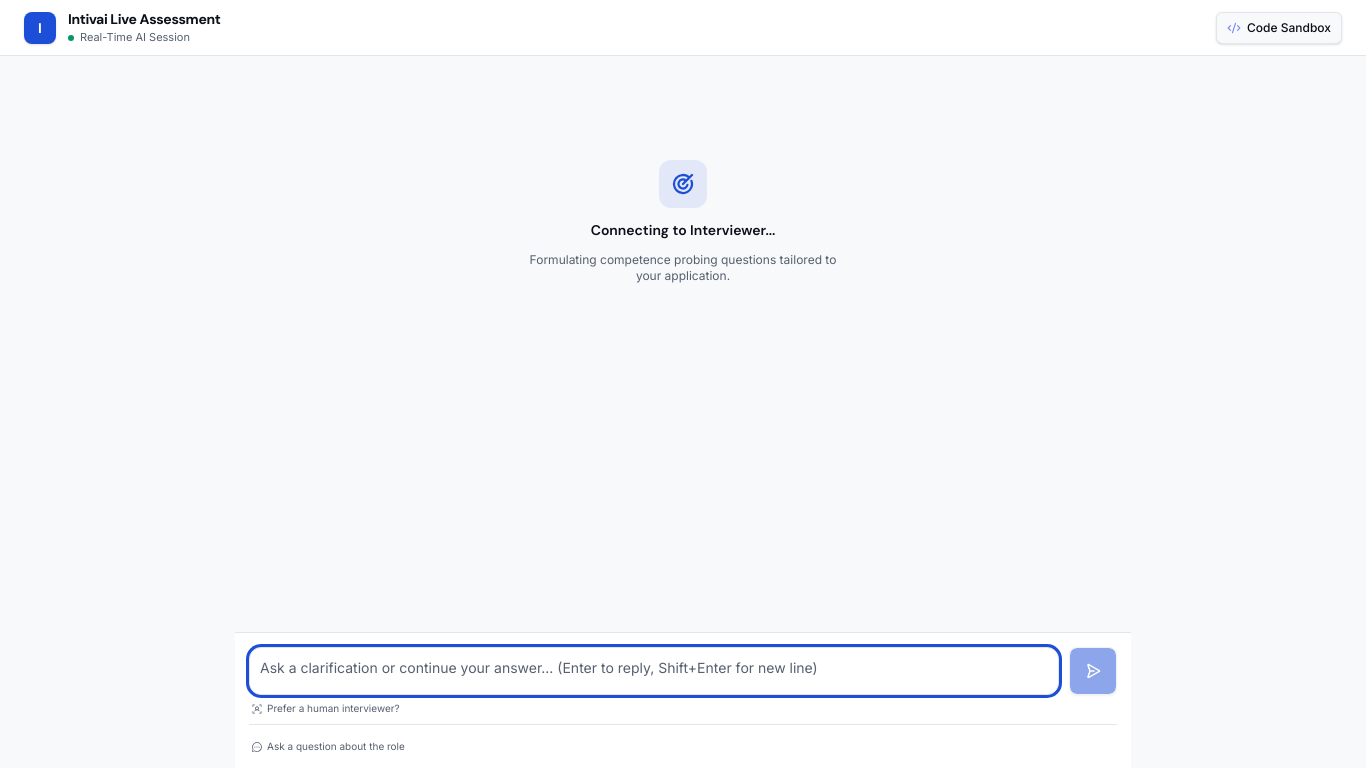
it: ChatPage — G11 input clamps › caps the candidate question input at 1000 characters
The width and height of the screenshot is (1366, 768).
Click the button "Ask a question about the role" at (328, 746), box [249,739,407,754]
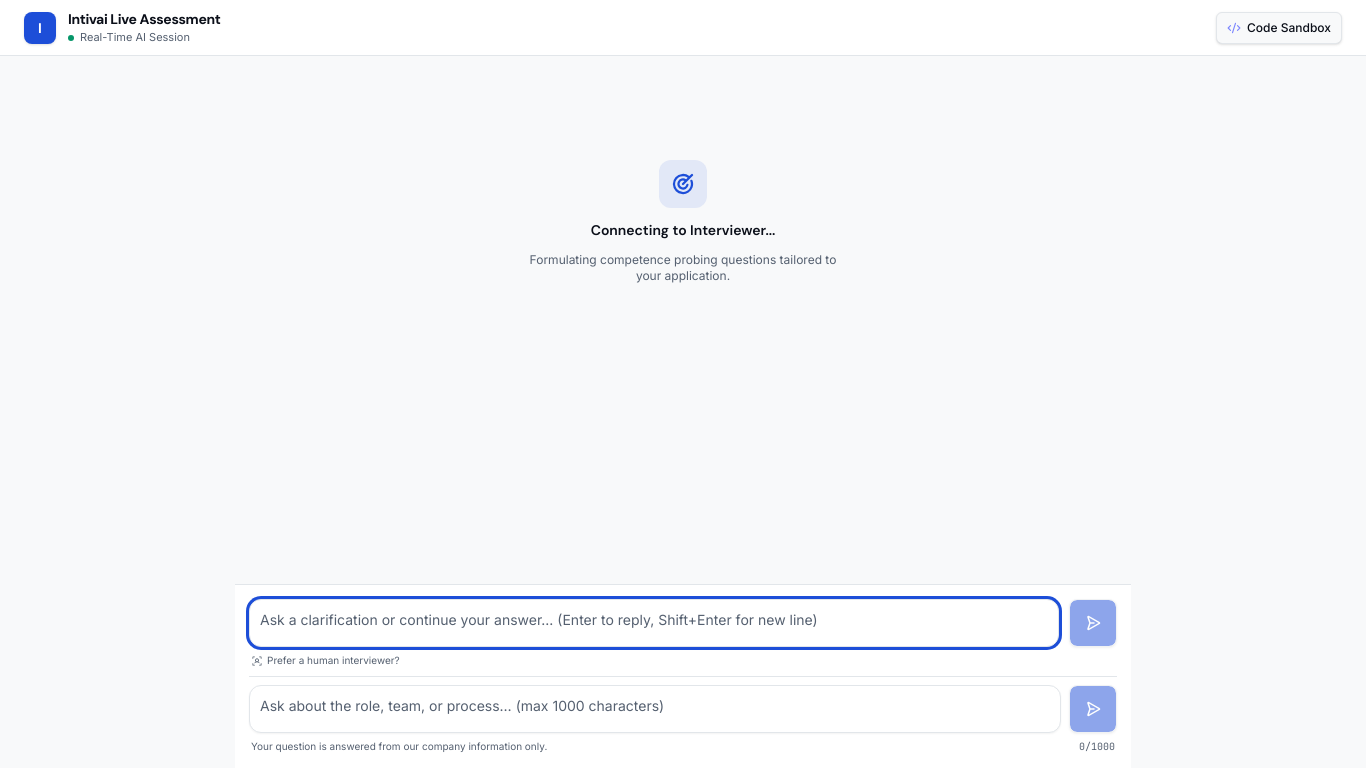
Expected: the button named "Send question" is shown, [1069,685,1117,733]
